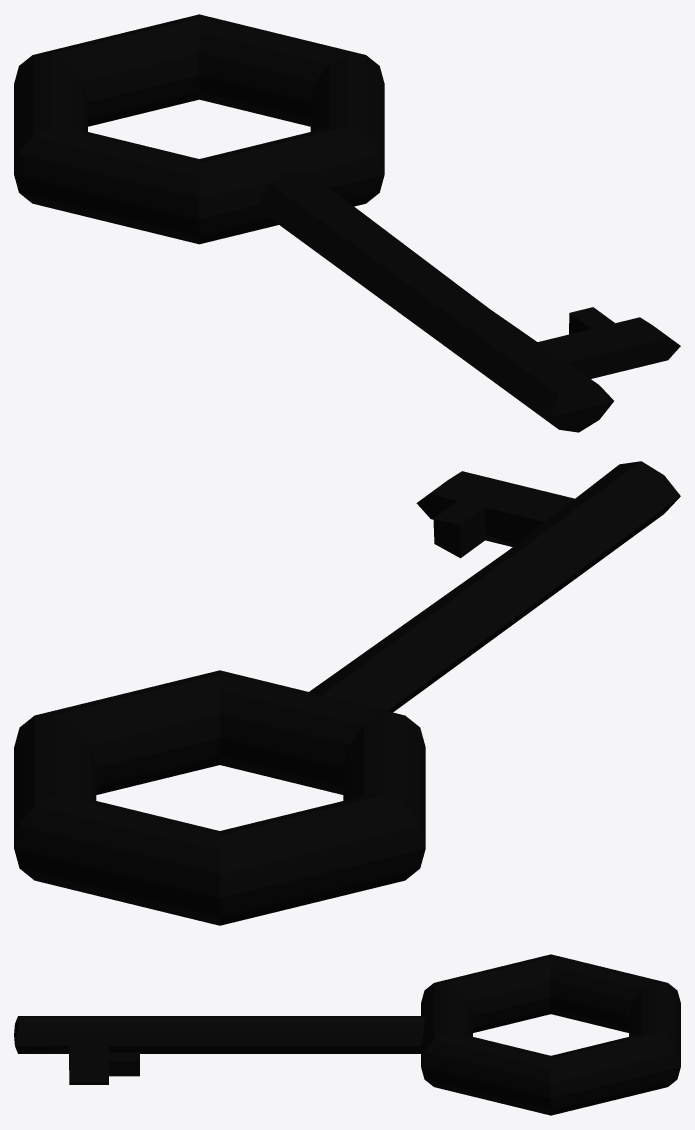
File: key.glb
The picture shows the model from 3 angles, top to bottom: view 1: azimuth 30°, elevation 25°; view 2: azimuth 150°, elevation 25°; view 3: azimuth 270°, elevation 25°; orthographic projection. The views are drawn at different scales.
Parts seen in each view (by area): view 1: key; view 2: key; view 3: key.
Boxes of the visible parts, box(x1,y1,x2,y2) form: key: box(14, 14, 680, 432); key: box(14, 461, 680, 925); key: box(14, 954, 680, 1115).
Bounding box in the file's own units: 2.5 × 0.5 × 5.55.
Materials: 1 (1 with a texture image).
